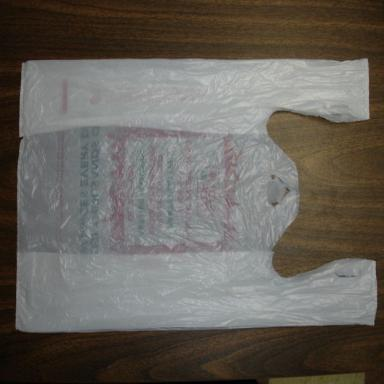plasticbag: (13, 53, 378, 331)
